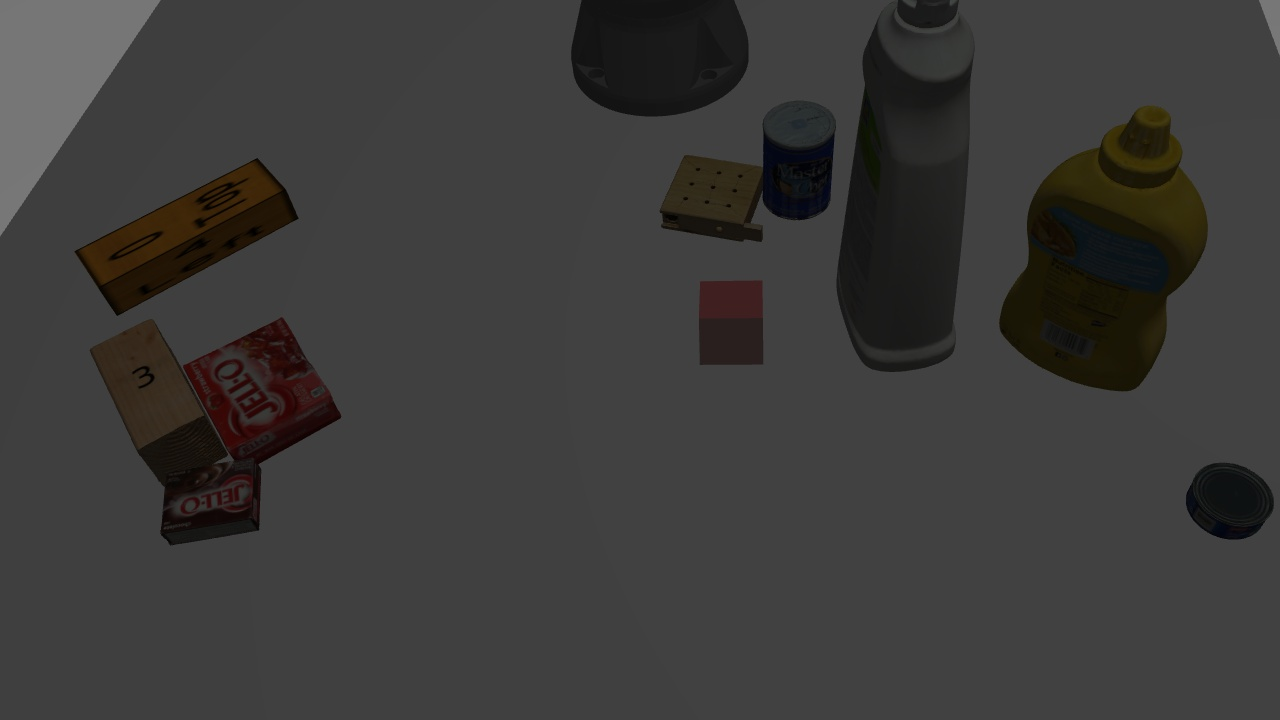gelatin_box: (188, 315, 341, 452)
jenga: (71, 153, 309, 310)
master_chef_can: (755, 85, 838, 224)
mustard_bottle: (1016, 94, 1207, 397)
nine_hole_peg_test: (663, 152, 769, 239)
pudding_box: (158, 468, 258, 540)
wood_block: (85, 326, 227, 486)
